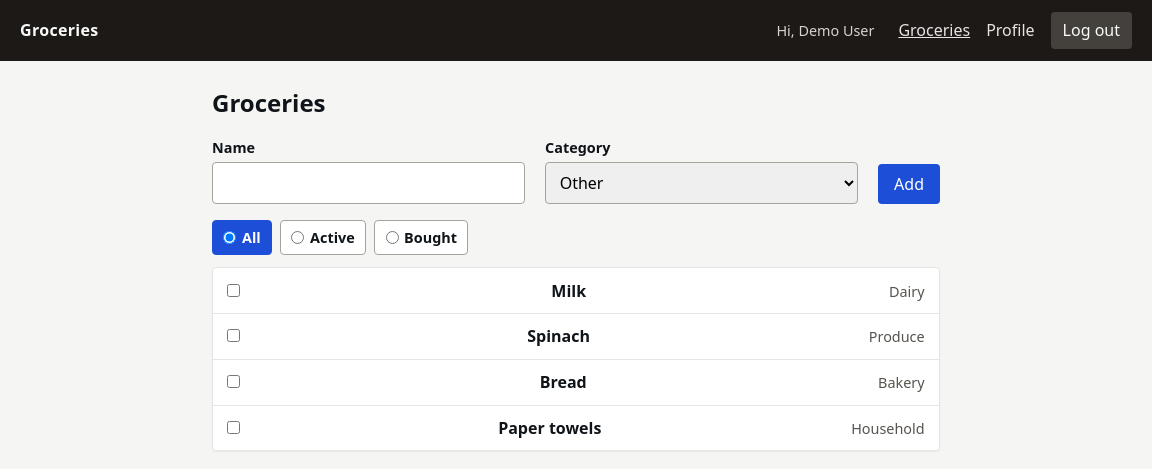
GroceriesPage › Active filter shows empty message when every item is bought
expect the heading "Groceries" is shown: met, box top-left (212, 86), bottom-right (326, 119)
Click the checkbox named "mark milk as bought".
click(234, 290)  # box top-left (227, 284), bottom-right (240, 297)
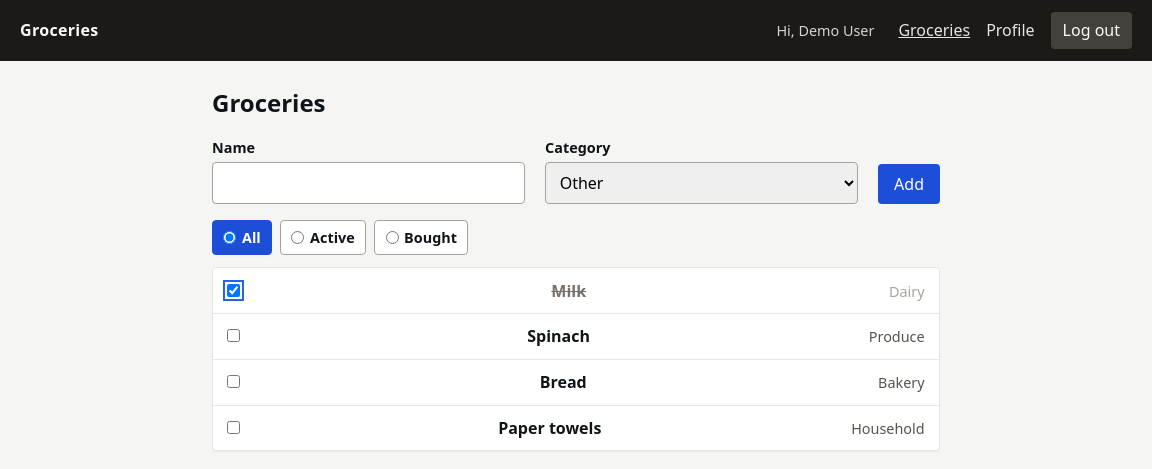
Click the checkbox named "mark spinach as bought".
click(234, 336)  # box top-left (227, 329), bottom-right (240, 342)
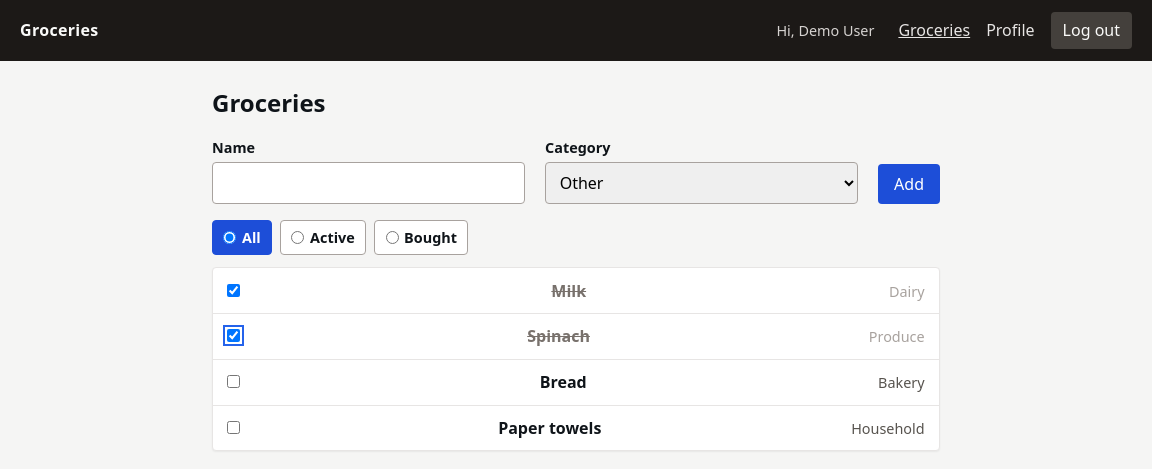
Click the checkbox named "mark bread as bought".
click(234, 382)  # box top-left (227, 375), bottom-right (240, 388)
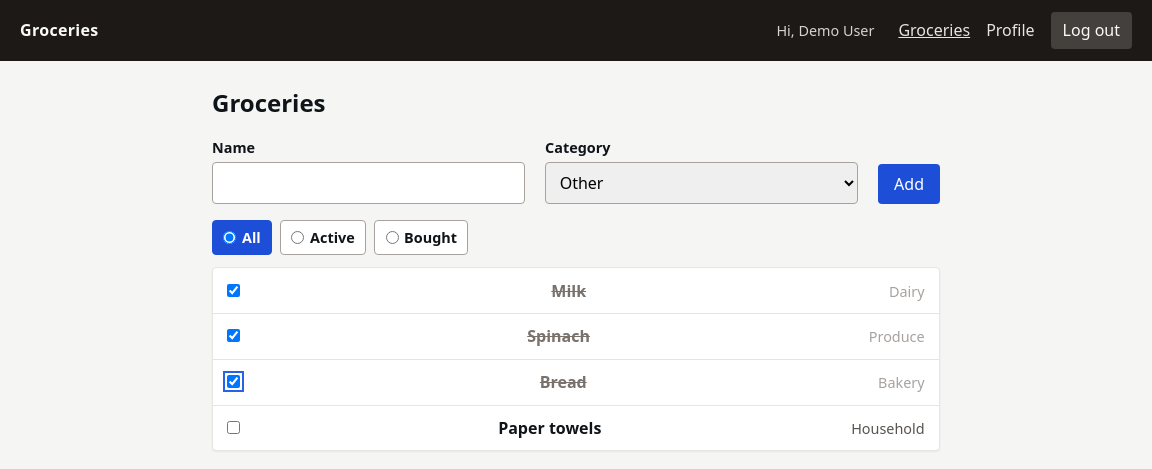
Click the checkbox named "mark paper towels as bought".
click(234, 428)  # box top-left (227, 421), bottom-right (240, 434)
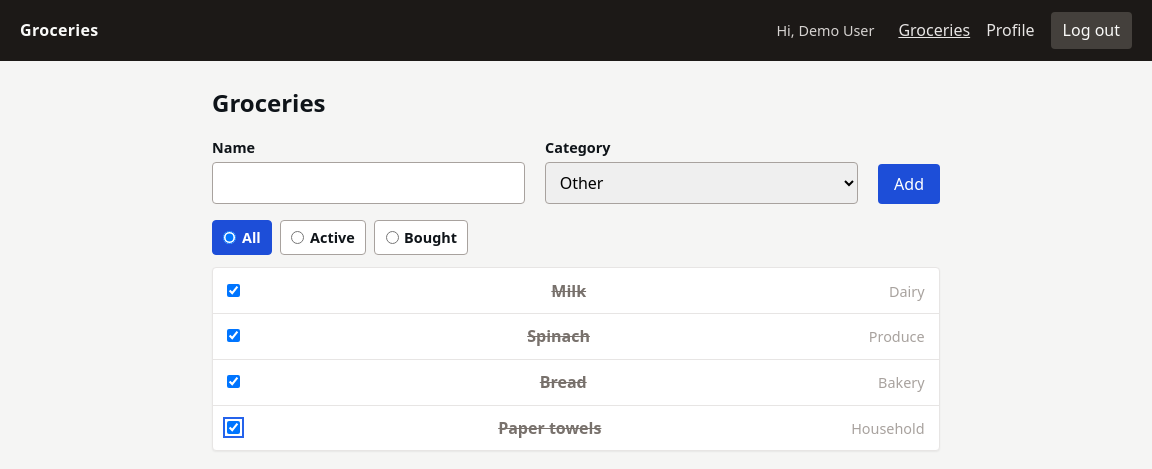
Click the radio button labelled "Active".
click(298, 238)  # box top-left (292, 231), bottom-right (304, 244)
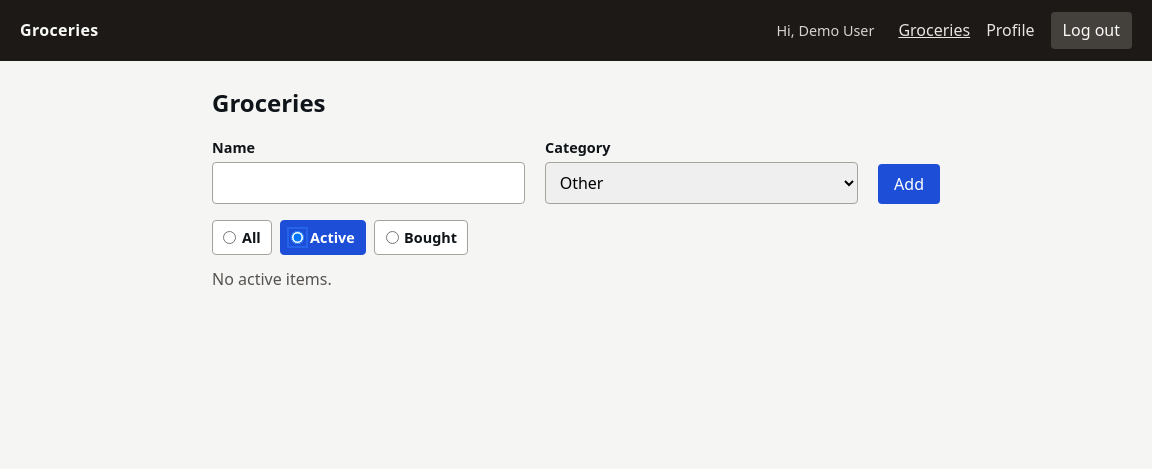
expect the text "No active items." is shown: met, box top-left (212, 268), bottom-right (332, 290)
